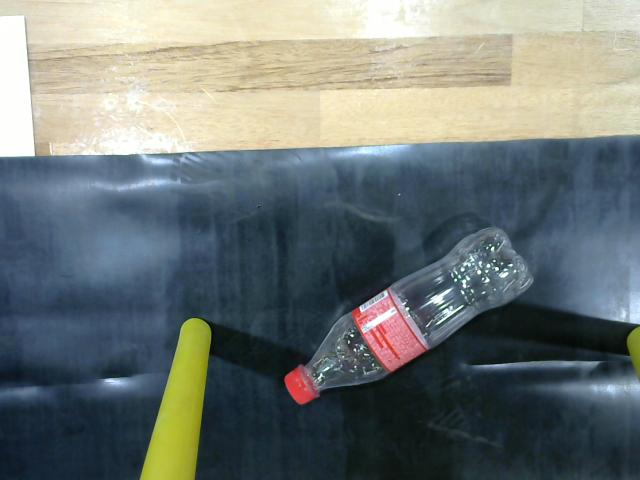bottle: (280, 215, 544, 414)
